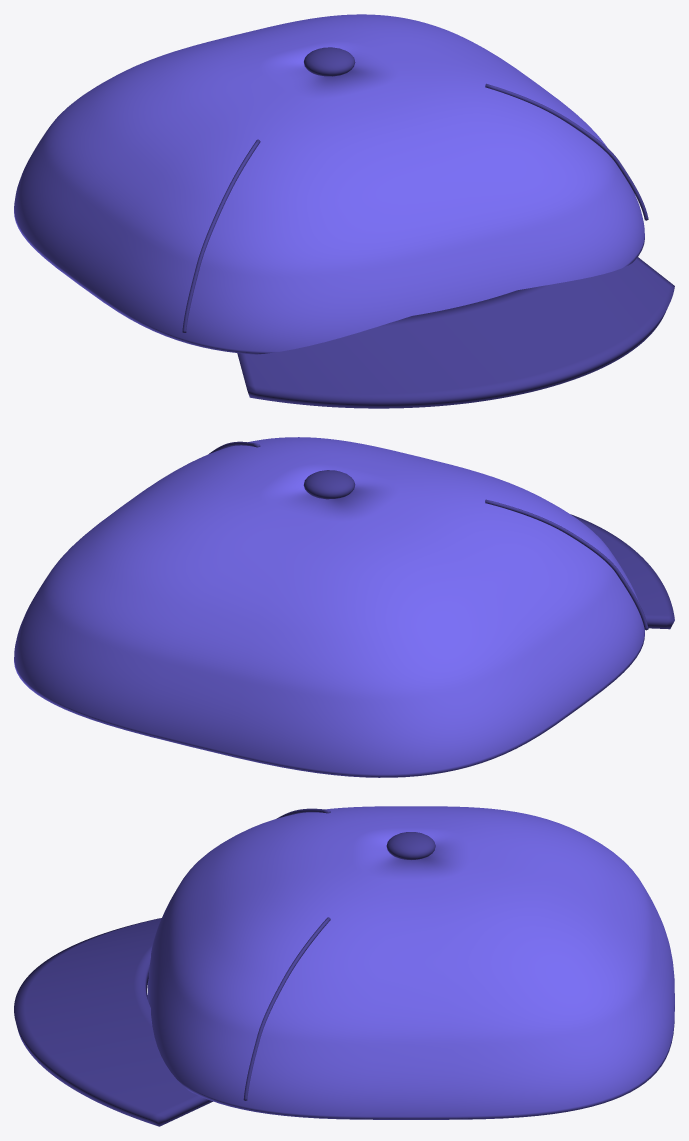
File: coach_cap.glb
3 views of the same model, one above another, from view 1: azimuth 30°, elevation 25°; view 2: azimuth 150°, elevation 25°; view 3: azimuth 270°, elevation 25° (orthographic). The views are drawn at different scales.
Parts seen in each view (by area): view 1: coach_cap__crown, coach_cap__visor, coach_cap__top_button, coach_cap__crown_seam_1, coach_cap__crown_seam_0; view 2: coach_cap__crown, coach_cap__visor, coach_cap__top_button, coach_cap__crown_seam_0; view 3: coach_cap__crown, coach_cap__visor, coach_cap__top_button, coach_cap__crown_seam_1.
Part boxes in pixels (x1,y1,x2,y2): coach_cap__crown: (14,14,644,354); coach_cap__visor: (237,257,674,408); coach_cap__top_button: (304,47,355,76); coach_cap__crown_seam_1: (485,83,648,220); coach_cap__crown_seam_0: (182,139,260,332); coach_cap__crown: (14,437,644,777); coach_cap__visor: (570,514,674,629); coach_cap__top_button: (303,470,355,499); coach_cap__crown_seam_0: (485,499,648,630); coach_cap__crown: (147,806,674,1119); coach_cap__visor: (14,918,212,1126); coach_cap__top_button: (386,832,435,859); coach_cap__crown_seam_1: (243,917,330,1100).
Size of the model in its own units: 1.85 by 0.7033 by 2.2.
